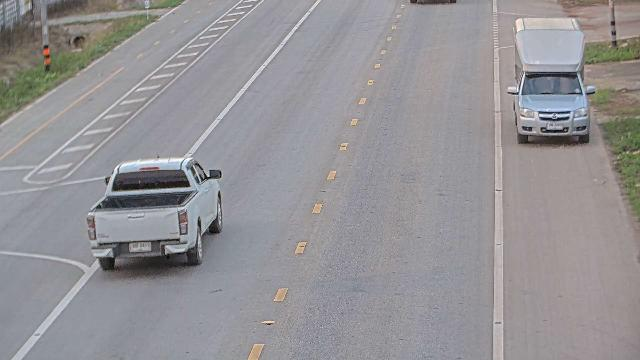pickup-truck: (85, 155, 223, 271), (508, 72, 594, 145)
